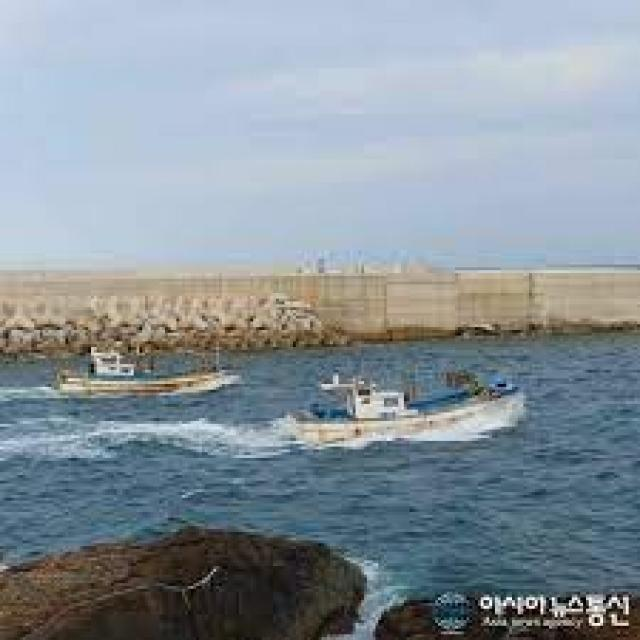Ship: (274, 365, 542, 462), (35, 334, 249, 405)
